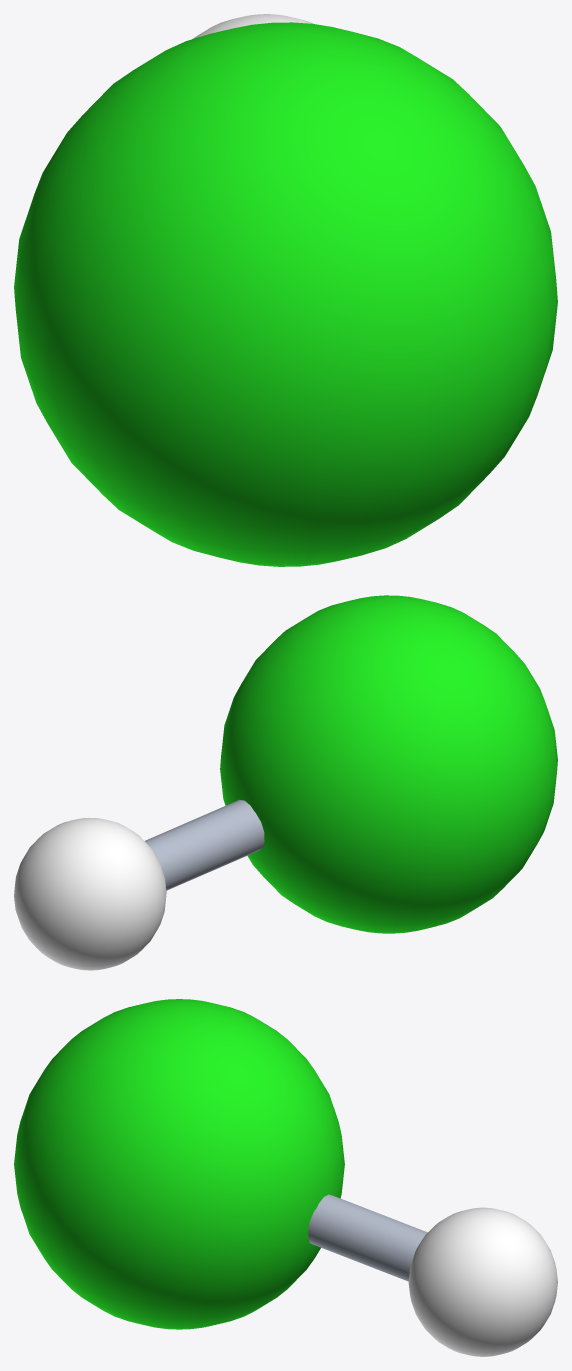
File: hcl.glb
3 renders of one model, top to bottom at view 1: azimuth 30°, elevation 25°; view 2: azimuth 150°, elevation 25°; view 3: azimuth 270°, elevation 25°, orthographic. The views are drawn at different scales.
Parts seen in each view (by area): view 1: Cl, H; view 2: Cl, H, bond; view 3: Cl, H, bond.
Boxes of the visible parts, x1,y1,x2,y2 form: Cl: (14,22,557,566); H: (193,14,313,38); Cl: (220,595,557,933); H: (14,817,166,970); bond: (145,799,264,890); Cl: (14,999,344,1329); H: (408,1207,557,1356); bond: (308,1194,427,1281).
Bounding box in the file's own units: 0.1625 × 0.1338 × 0.22.
